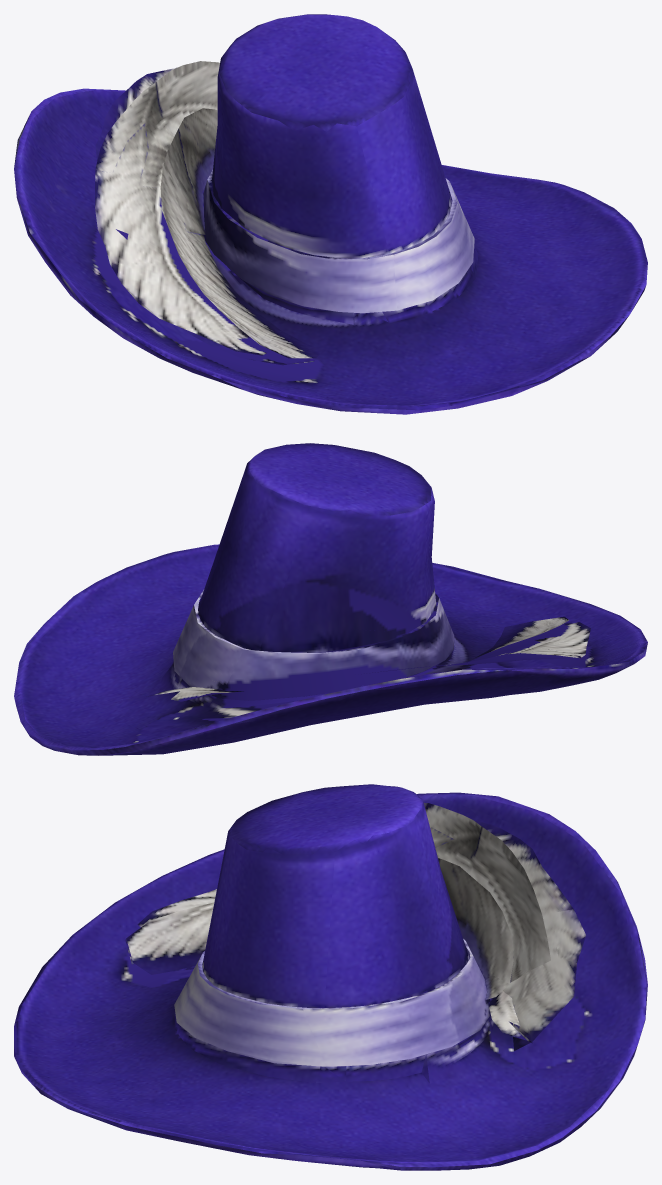
The model's file is item_6hat2.glb.
3 views of the same model, one above another, from view 1: azimuth 30°, elevation 25°; view 2: azimuth 150°, elevation 25°; view 3: azimuth 270°, elevation 25° (orthographic). The views are drawn at different scales.
Visible parts, largest first — view 1: equipment_6hat2; view 2: equipment_6hat2; view 3: equipment_6hat2.
Boxes of the visible parts, x1,y1,x2,y2 form: equipment_6hat2: [14, 14, 647, 414]; equipment_6hat2: [14, 443, 647, 755]; equipment_6hat2: [14, 784, 647, 1170].
Bounding box in the file's own units: 1 × 0.4338 × 0.9997.
Materials: 1 (1 with a texture image).
